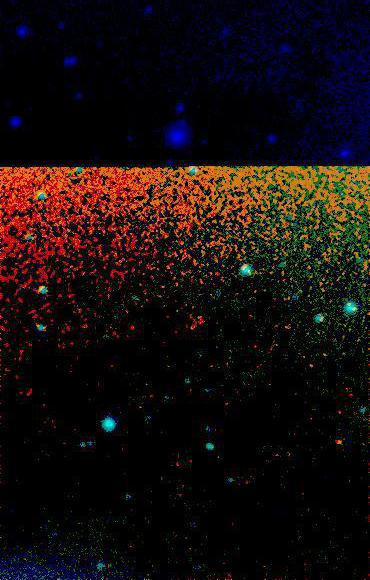star: (325, 425, 355, 455)
